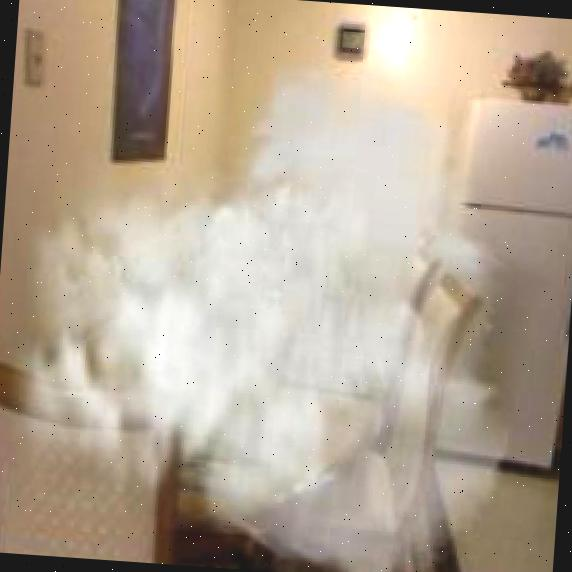smoke: (0, 38, 540, 572)
